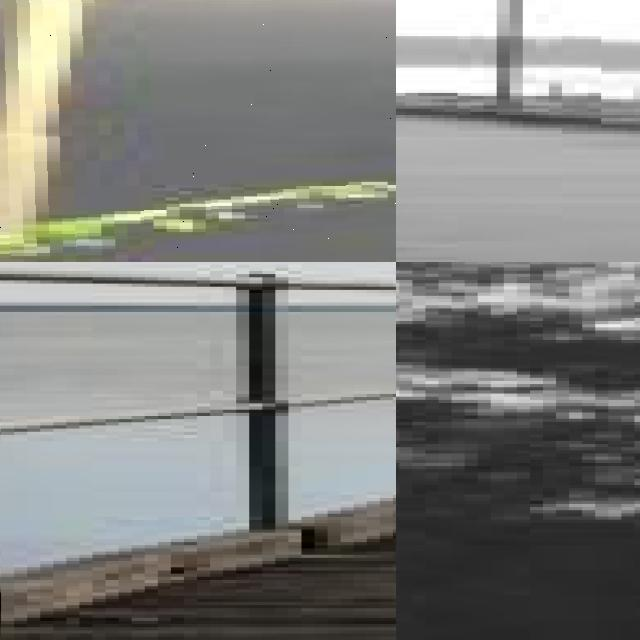street light: (0, 0, 396, 262), (396, 0, 549, 111)
